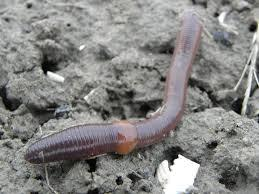Insects: (22, 11, 204, 166)
